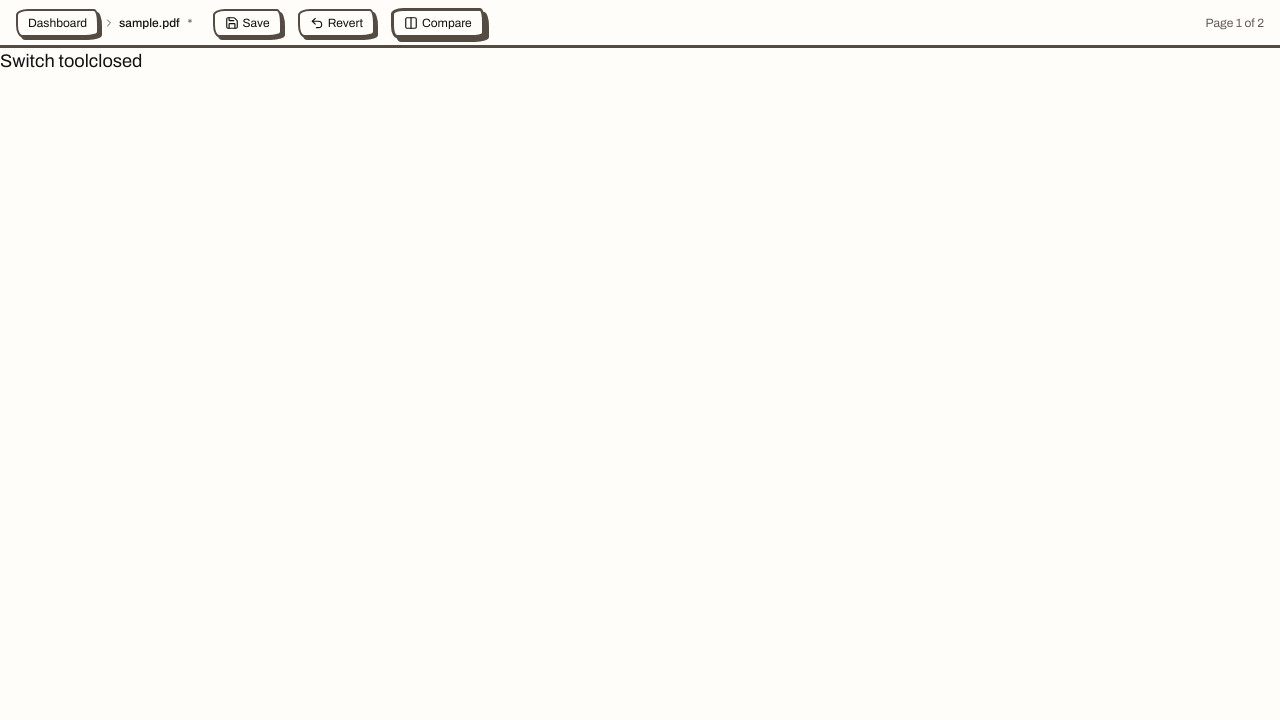
Scenario: leaving the editor › ED-02: a dirty document prompts instead of leaving
Click the button "Dashboard" at (58, 22), box left=16, top=8, right=99, bottom=36
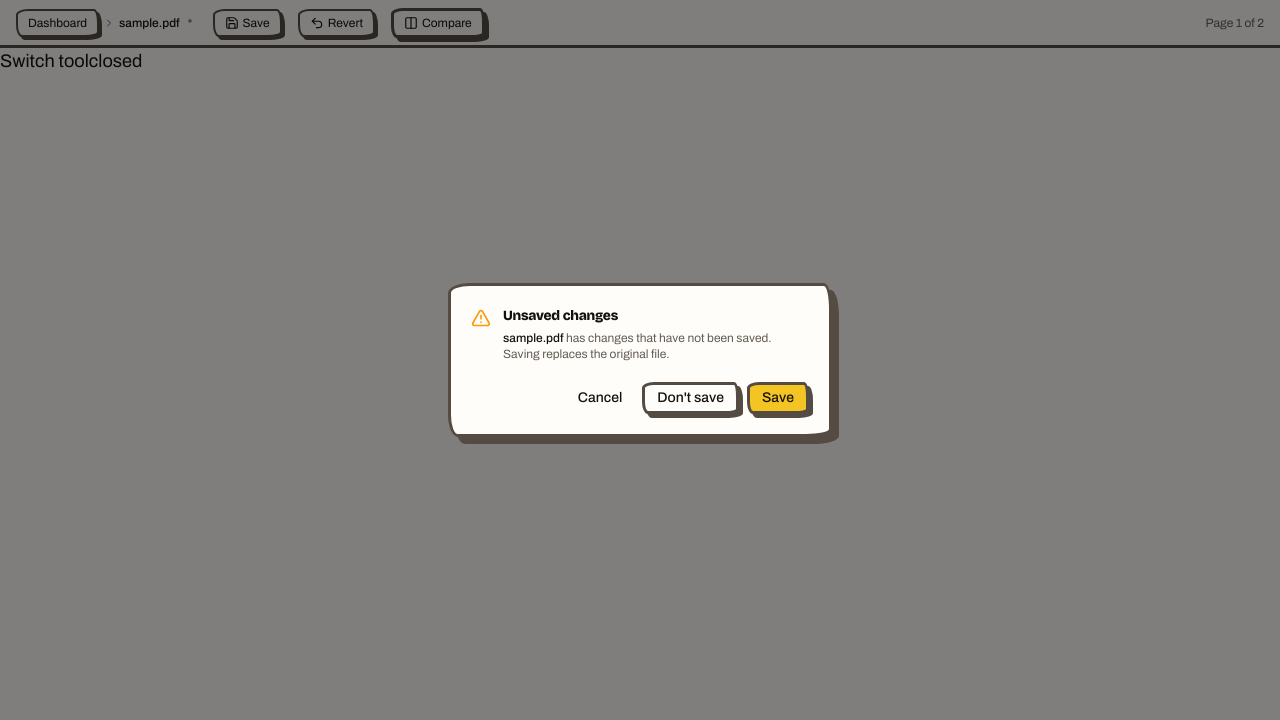
Expected: the dialog is shown, left=448, top=283, right=832, bottom=437
